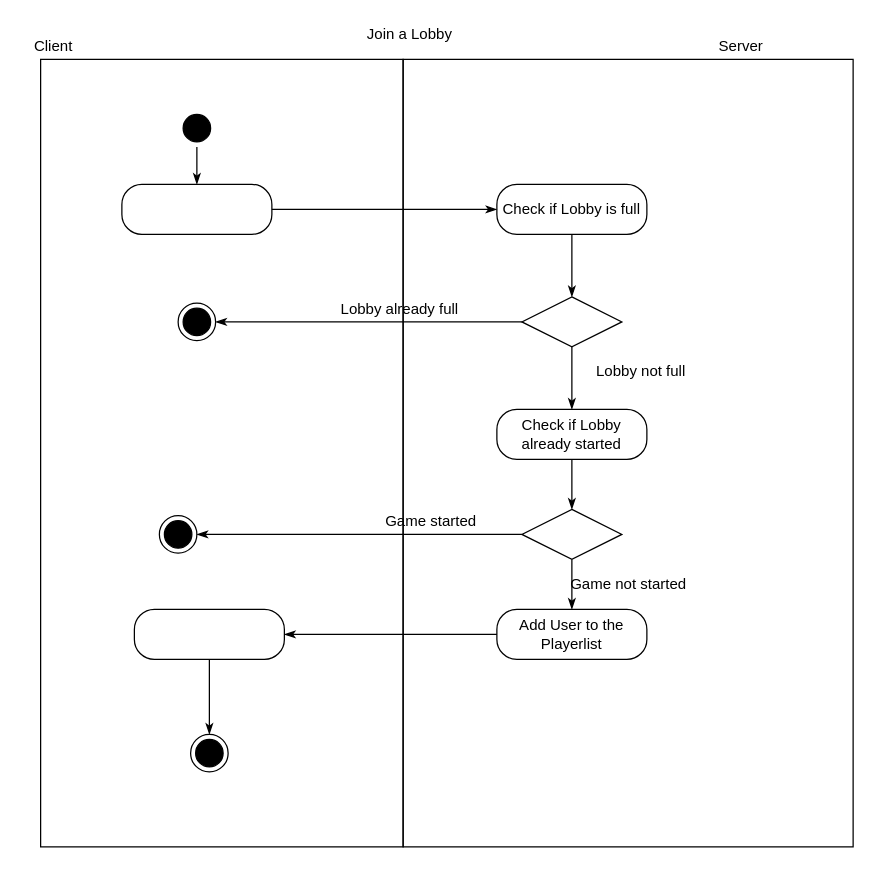
This 875x869 diagram has some shape labels left out. The centre of each missing label's shape, as x and y in pixels:
"Joining the Lobby" belongs at [208,633].
"Select a Lobby from the Lobbylist" belongs at [196,208].
